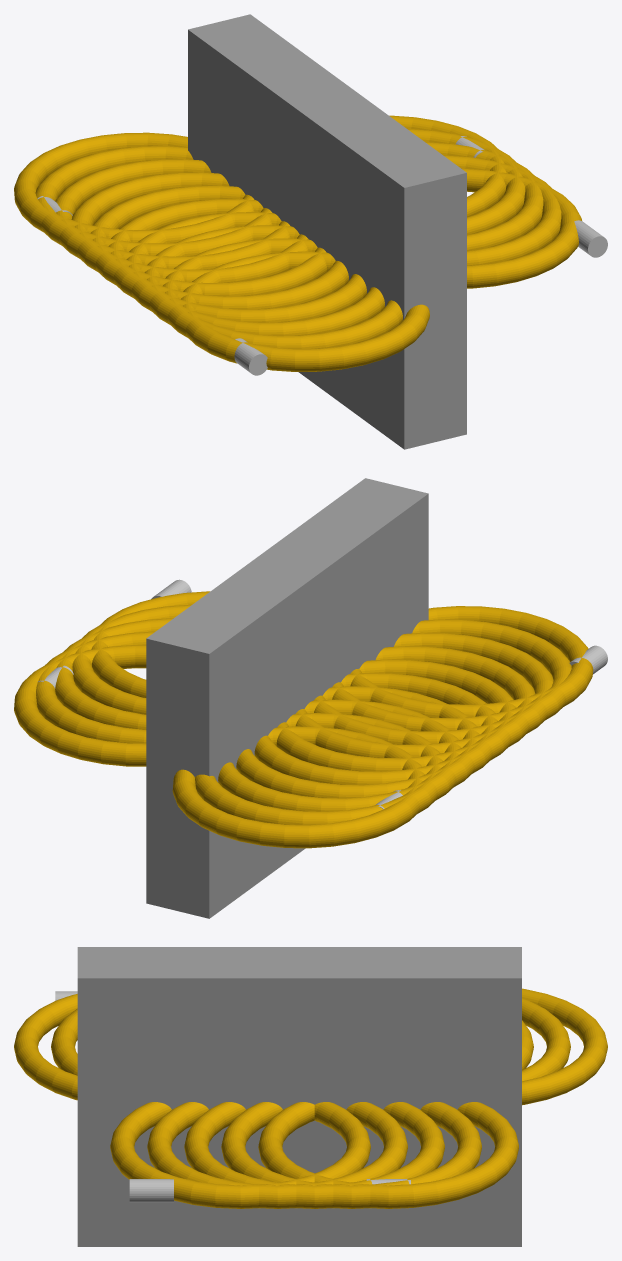
The model's file is transformer.glb.
3 renders of one model, top to bottom at view 1: azimuth 30°, elevation 25°; view 2: azimuth 150°, elevation 25°; view 3: azimuth 270°, elevation 25°, orthographic. The views are drawn at different scales.
Parts seen in each view (by area): view 1: world; view 2: world; view 3: world.
Part boxes in pixels (x1,y1,x2,y2): world: (14,14,607,449); world: (14,478,607,918); world: (14,947,607,1246).
Bounding box in the file's own units: 3.36 × 2 × 4.01.
